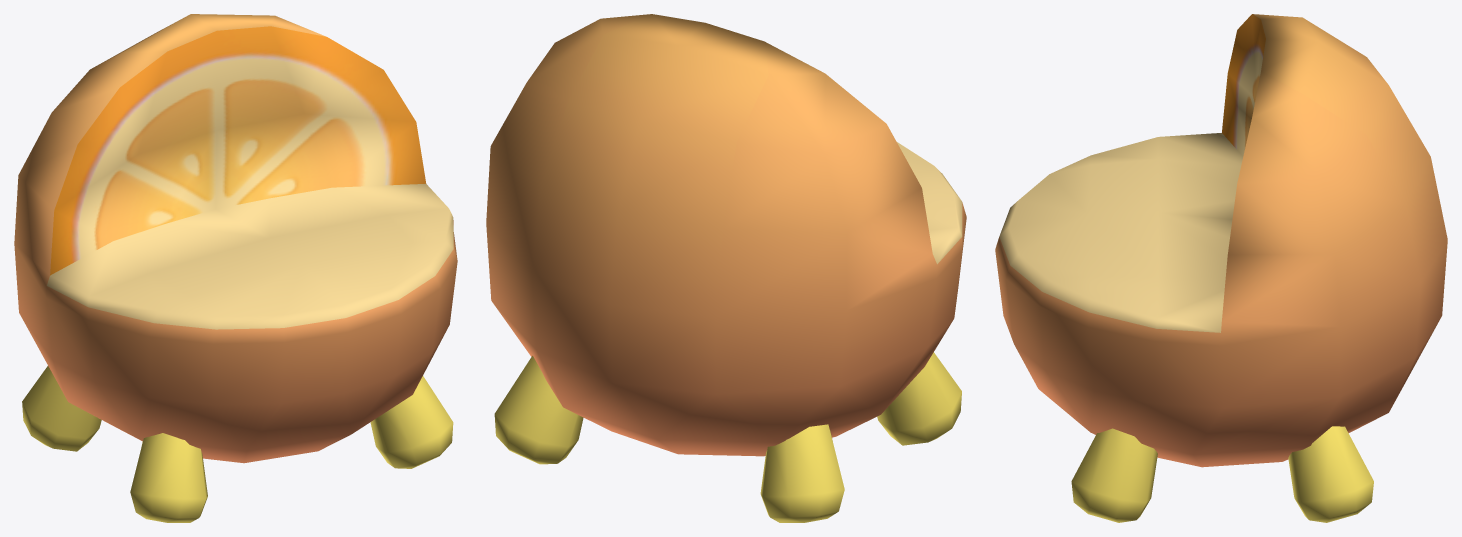
The model's file is Homestead_nm_18.fbx.
3 renders of one model, left to right at view 1: azimuth 30°, elevation 25°; view 2: azimuth 150°, elevation 25°; view 3: azimuth 270°, elevation 25°, orthographic. The views are drawn at different scales.
Parts seen in each view (by area): view 1: Homestead_nm_18; view 2: Homestead_nm_18; view 3: Homestead_nm_18.
Boxes of the visible parts, bbox=[...] form: Homestead_nm_18: bbox=[14, 14, 457, 522]; Homestead_nm_18: bbox=[486, 14, 966, 522]; Homestead_nm_18: bbox=[995, 14, 1447, 522].
Bounding box in the file's own units: 144 × 146 × 143.
